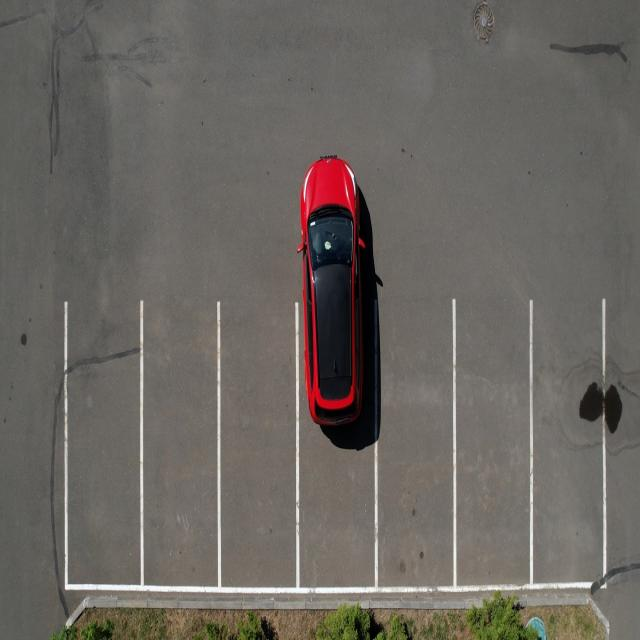space-empty: (446, 294, 533, 586), (375, 284, 459, 584), (526, 292, 611, 585), (220, 299, 302, 591), (138, 296, 220, 584), (59, 298, 140, 586), (298, 295, 374, 594), (0, 301, 66, 601)
